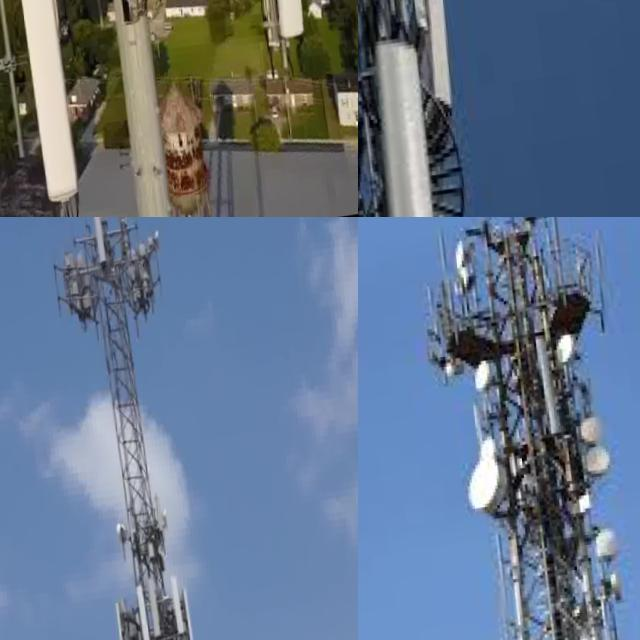GSM Antenna: (0, 0, 81, 216), (365, 34, 435, 217), (410, 0, 461, 123), (14, 0, 75, 88), (529, 334, 566, 448), (159, 582, 180, 640), (170, 583, 191, 640), (138, 581, 157, 640), (126, 585, 146, 640), (89, 217, 106, 272), (105, 600, 128, 640)
Microwave Antenna: (455, 459, 514, 531), (594, 569, 632, 619), (550, 329, 581, 380), (578, 451, 613, 494), (462, 364, 495, 406), (575, 413, 608, 451), (472, 433, 506, 469), (591, 532, 623, 569), (437, 363, 458, 389), (155, 511, 168, 544), (110, 524, 123, 556), (148, 231, 161, 258)
